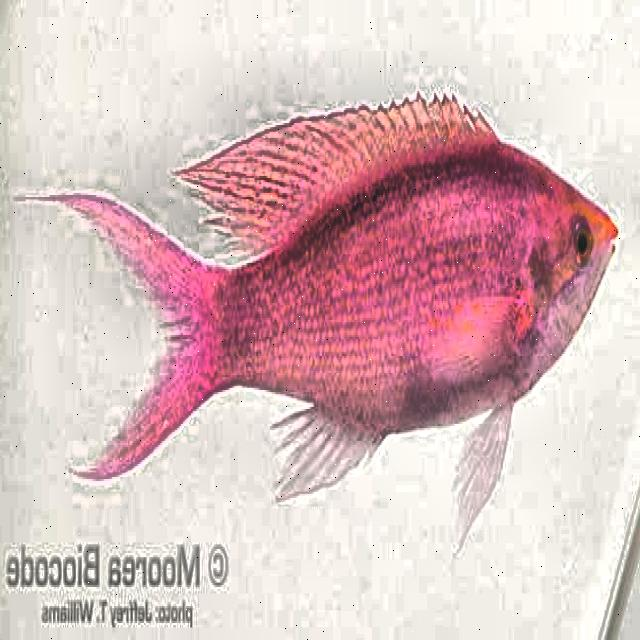fish: (12, 88, 620, 560)
